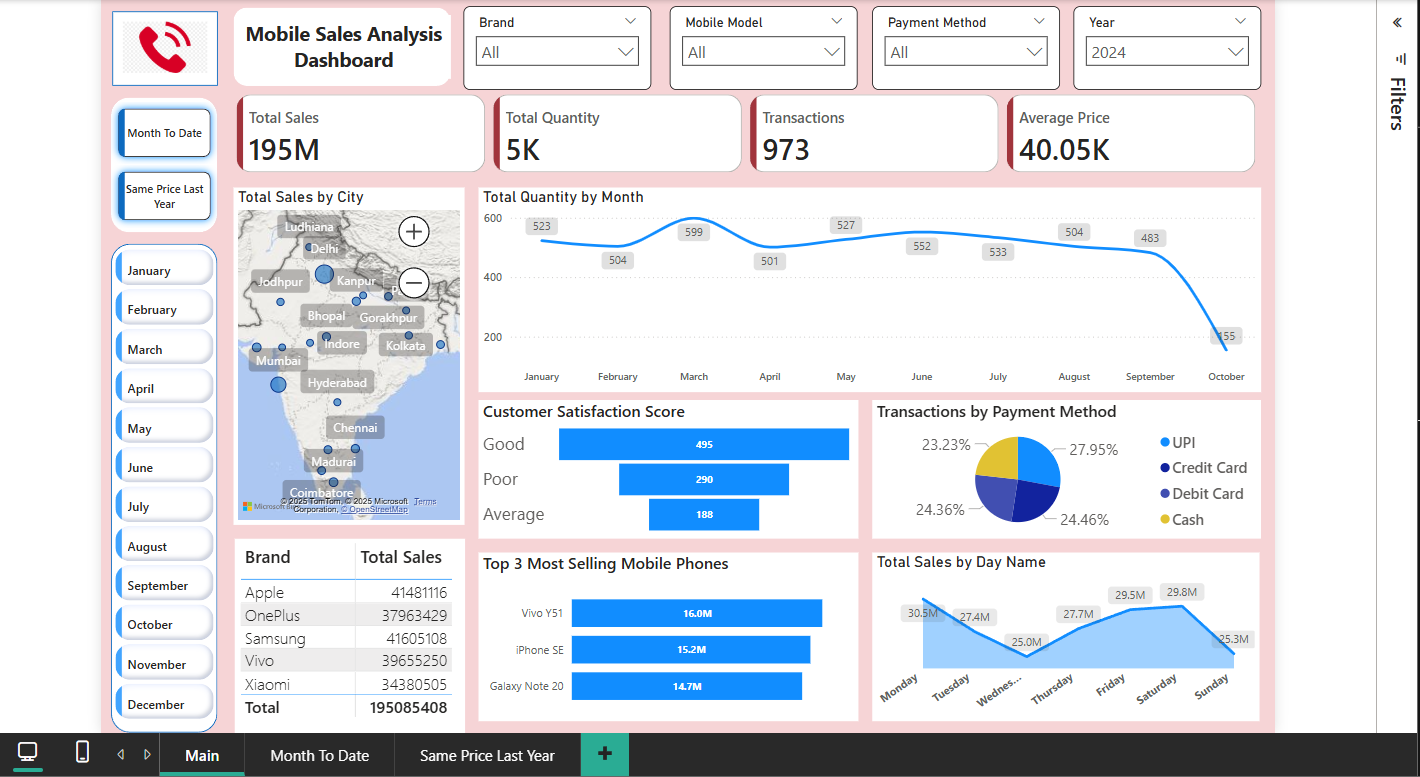

What the dashboard file says about the page in this screenshot:
{"tool":"powerbi","page":{"name":"Main","canvas":[1280,800],"ordinal":0},"visuals":[{"type":"shape","box":[11.9,11.9,115.3,81.4],"z":0},{"type":"image","box":[18.6,16.9,101.7,71.2],"z":1000},{"type":"shape","box":[11.4,105.7,115.7,147.1],"z":2000},{"type":"shape","box":[11.3,266.1,116.1,533.9],"z":3000},{"type":"advancedSlicerVisual","fields":{"Values":["Query1.DATE.Variation.Date Hierarchy.Month"]},"box":[11.3,267.7,117.7,532.3],"z":4000},{"type":"cardVisual","fields":{"Data":["Sheet1.Total Sales","Sheet1.Total Quantity","Sheet1.Transactions","Sheet1.Average Price"]},"box":[142.9,98.6,1124.3,95.7],"z":5000},{"type":"shape","box":[144.9,8.2,236.7,85.7],"z":6000},{"type":"textbox","box":[146.9,16.3,234.7,69.4],"z":7000},{"type":"map","fields":{"Category":["Sheet1.City"],"Size":["Sheet1.Total Sales"]},"box":[145.2,204.8,251.6,367.7],"z":8000},{"type":"lineChart","fields":{"Category":["Query1.DATE.Variation.Date Hierarchy.Month"],"Y":["Sheet1.Total Quantity"]},"box":[411,204.9,854,223.3],"z":9000},{"type":"funnel","title":"Customer Satisfaction Score","fields":{"Y":["CountNonNull(Sheet1.Customer Ratings)"],"Category":["Sheet1.Rating Status"]},"box":[411.7,436.3,414.5,151.3],"z":10000},{"type":"pieChart","fields":{"Category":["Sheet1.Payment Method"],"Y":["Sheet1.Transactions"]},"box":[841.2,436.3,424,151.3],"z":11000},{"type":"clusteredBarChart","title":"Top 3 Most Selling Mobile Phones","fields":{"Category":["Sheet1.Mobile Model"],"Y":["Sheet1.Total Sales"]},"box":[412.2,602,414.3,183.7],"z":12000},{"type":"areaChart","fields":{"Y":["Sheet1.Total Sales"],"Category":["Query1.Day Name"]},"box":[840.8,602,422.4,183.7],"z":13000},{"type":"tableEx","fields":{"Values":["Sheet1.Brand","Sheet1.Total Sales"]},"box":[146,588,251,212],"z":14000},{"type":"pageNavigator","box":[11.4,110,117.1,138.6],"z":15000},{"type":"slicer","fields":{"Values":["Sheet1.Brand"]},"box":[394.9,6.8,205.1,91.5],"z":16000},{"type":"slicer","fields":{"Values":["Sheet1.Mobile Model"]},"box":[620.3,6.8,205.1,91.5],"z":17000},{"type":"slicer","fields":{"Values":["Sheet1.Payment Method"]},"box":[840.7,6.8,205.1,91.5],"z":18000},{"type":"slicer","fields":{"Values":["Query1.DATE.Variation.Date Hierarchy.Year","Query1.DATE.Variation.Date Hierarchy.Quarter","Query1.DATE.Variation.Date Hierarchy.Month","Query1.DATE.Variation.Date Hierarchy.Day"]},"box":[1061,6.8,205.1,91.5],"z":19000}]}

Visuals, with their boxes on the page's 1280x800 design canvas (x1, y1, x2, y2). These are canvas units, not pixel positions in the 1420x777 screenshot, which may show the page scaled, cropped or inside an application window:
shape: [12,12,127,93]
image: [19,17,120,88]
shape: [11,106,127,253]
shape: [11,266,127,800]
advancedSlicerVisual - Query1.DATE.Variation.Date Hierarchy.Month: [11,268,129,800]
cardVisual - Sheet1.Total Sales x Sheet1.Total Quantity: [143,99,1267,194]
shape: [145,8,382,94]
textbox: [147,16,382,86]
map - Sheet1.City x Sheet1.Total Sales: [145,205,397,572]
lineChart - Query1.DATE.Variation.Date Hierarchy.Month x Sheet1.Total Quantity: [411,205,1265,428]
"Customer Satisfaction Score" funnel: [412,436,826,588]
pieChart - Sheet1.Payment Method x Sheet1.Transactions: [841,436,1265,588]
"Top 3 Most Selling Mobile Phones" clusteredBarChart: [412,602,826,786]
areaChart - Sheet1.Total Sales x Query1.Day Name: [841,602,1263,786]
tableEx - Sheet1.Brand x Sheet1.Total Sales: [146,588,397,800]
pageNavigator: [11,110,128,249]
slicer - Sheet1.Brand: [395,7,600,98]
slicer - Sheet1.Mobile Model: [620,7,825,98]
slicer - Sheet1.Payment Method: [841,7,1046,98]
slicer - Query1.DATE.Variation.Date Hierarchy.Year x Query1.DATE.Variation.Date Hierarchy.Quarter: [1061,7,1266,98]
